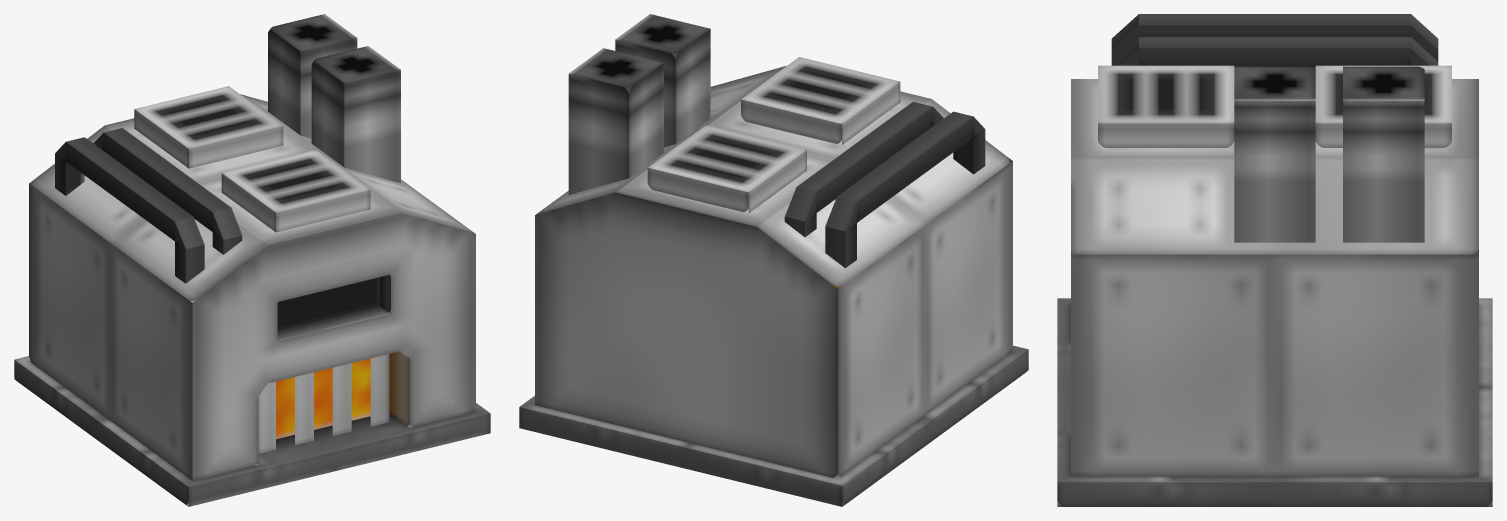
Rendered from furnace_iron.obj.
3 views of the same model, side by side, from view 1: azimuth 30°, elevation 25°; view 2: azimuth 150°, elevation 25°; view 3: azimuth 270°, elevation 25° (orthographic). The views are drawn at different scales.
Visible parts, largest first — view 1: Main, On; view 2: Main; view 3: Main.
Part boxes in pixels (bbox=[...]): Main: bbox=[14, 14, 490, 506]; On: bbox=[276, 351, 409, 439]; Main: bbox=[519, 14, 1028, 506]; Main: bbox=[1057, 14, 1492, 506].
Size of the model in its own units: 2 by 2 by 2.
